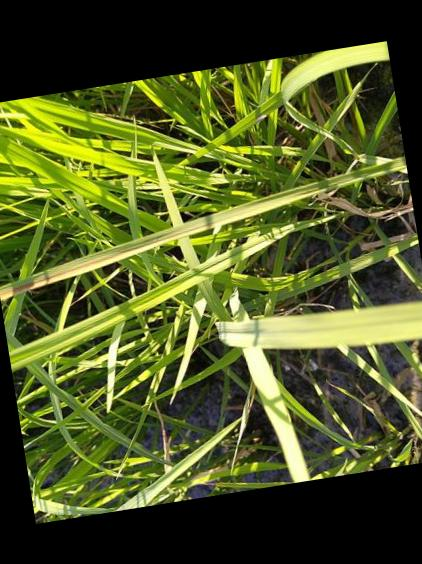Leaf Streak: (0, 226, 187, 300)
